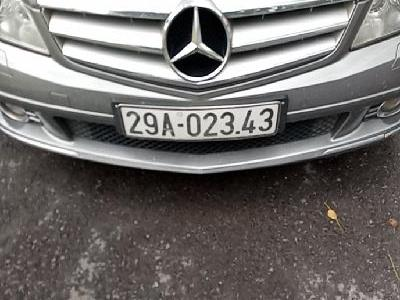lisence: (117, 101, 281, 143)
